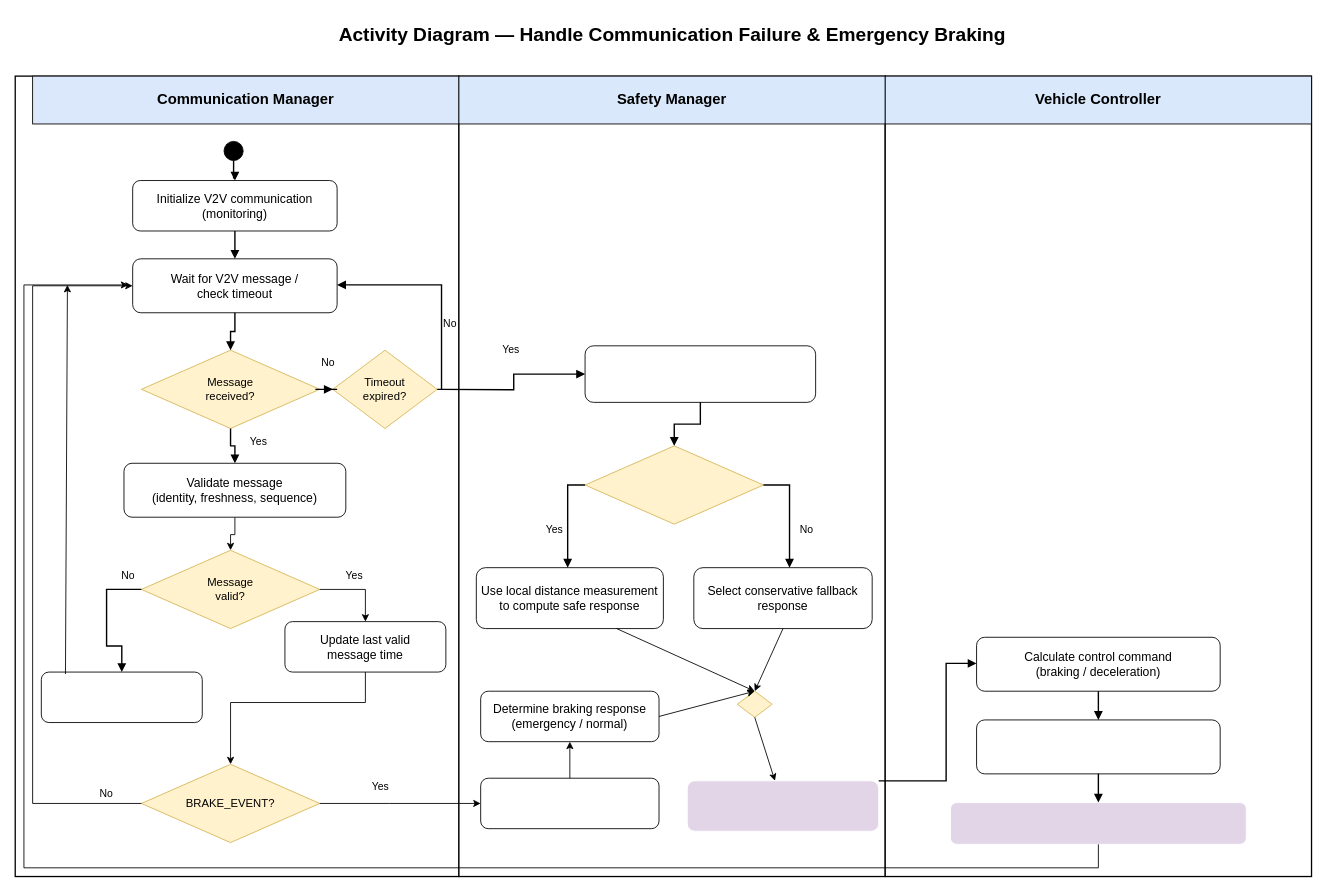
Some shapes in this 1328 by 892 pixel diagram are drawn without their labels. Each missing label, with the centre of its shape:
"Continue monitoring (while platooning is active)" goes at pixel 1098 823.
"Detect communication failure (enter fallback mode)" goes at pixel 700 373.
"Discard invalid / outdated message" goes at pixel 121 697.
"Execute control (apply braking / maintain safe distance)" goes at pixel 1098 746.
"Local distance sensor valid?" goes at pixel 673 484.
"Process emergency braking event" goes at pixel 569 803.
"Request braking / velocity control" goes at pixel 782 805.
